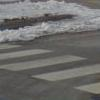Crosswalk: (6, 41, 92, 96)
